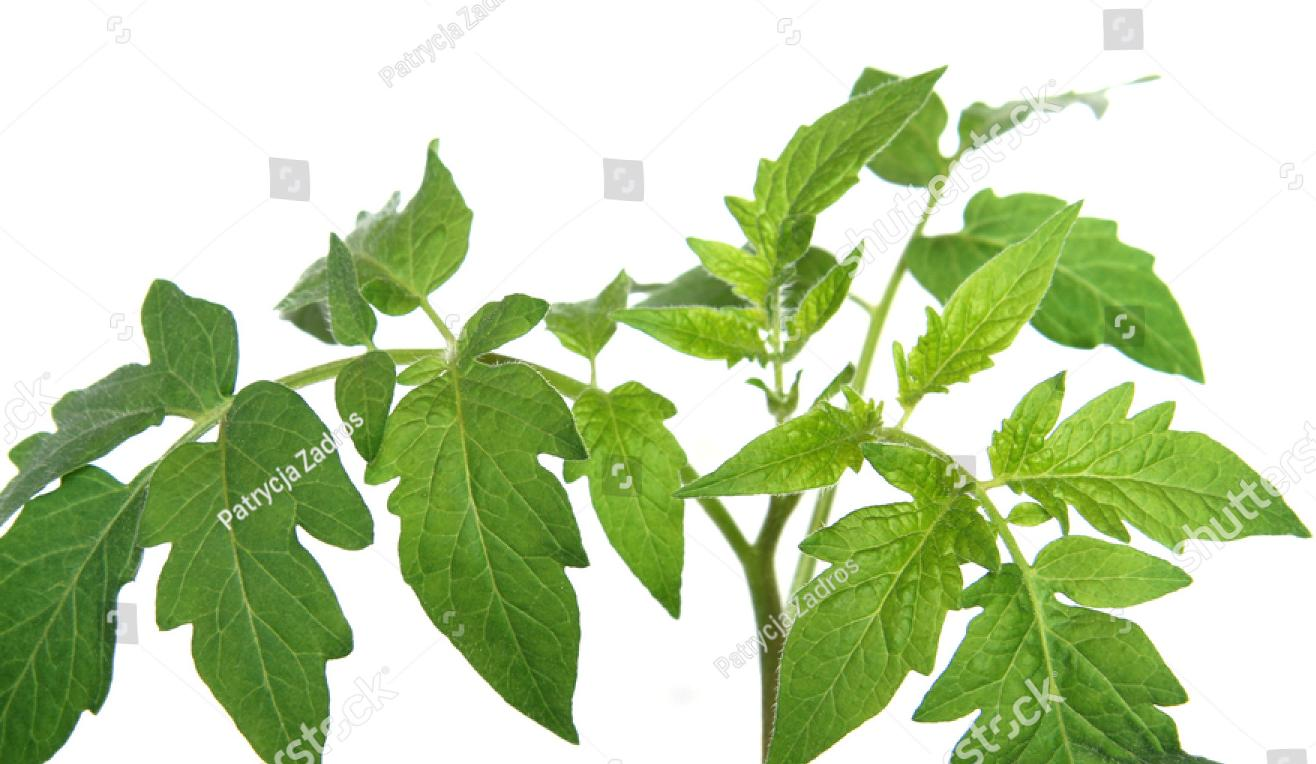Tomato leaf: (147, 382, 461, 764), (389, 302, 632, 764), (975, 356, 1316, 634), (688, 59, 927, 409), (859, 170, 1100, 477), (948, 514, 1238, 764), (763, 477, 972, 764), (0, 431, 180, 764)
